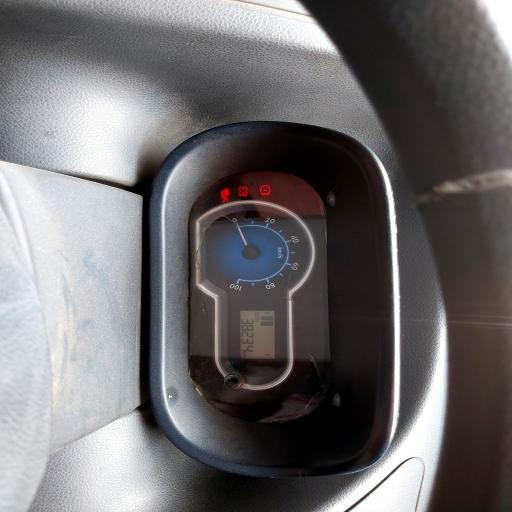brake_system_fault: (260, 185, 271, 195)
oil: (221, 188, 229, 202)
vehicle_charging: (239, 186, 249, 197)
